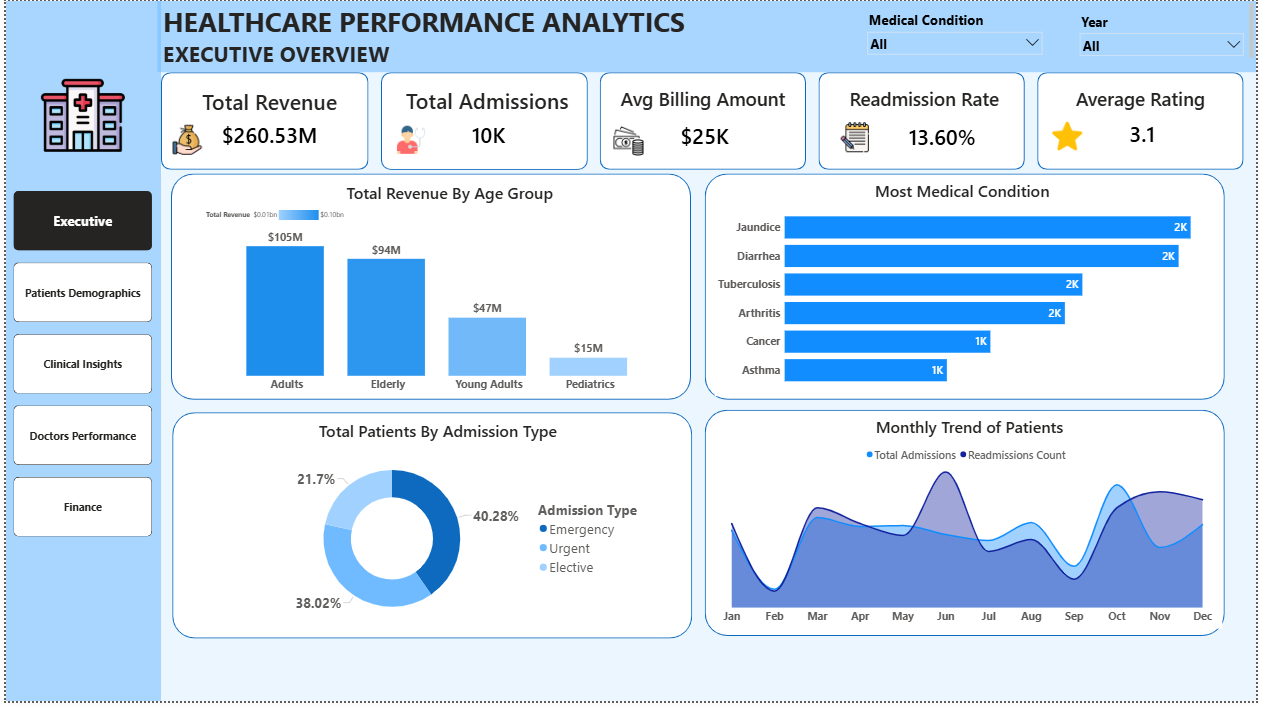

The dashboard page shown, as its layout file describes it:
{"tool":"powerbi","page":{"name":"Executive","canvas":[2500,1400],"ordinal":0},"visuals":[{"type":"shape","box":[1625,143,412.5,195],"z":0,"group":"g6"},{"type":"group","id":"g1","title":"Group 6","box":[2062.1,143,412.5,195],"z":0},{"type":"shape","box":[0,0,310,1400],"z":1000},{"type":"shape","box":[1187.9,143,412.5,195],"z":1000,"group":"g5"},{"type":"shape","box":[302.5,0,2197.5,142.5],"z":2000},{"type":"shape","box":[749.6,142.5,413.6,195.5],"z":2000,"group":"g7"},{"type":"textbox","box":[310,0,2190,127.5],"z":3000},{"type":"shape","box":[310,142.5,415,195],"z":3000,"group":"g2"},{"type":"slicer","fields":{"Values":["Healthcare Dataset.Medical Condition"]},"box":[1713.6,15,370,102.5],"z":4000},{"type":"slicer","fields":{"Values":["Date_Table.Year"]},"box":[2138.6,17.5,347.5,100],"z":5000},{"type":"group","id":"g2","title":"Group 1","box":[310,142.5,415,195],"z":6000},{"type":"group","id":"g3","title":"Group 2","box":[749.6,142.5,413.6,195.5],"z":7000},{"type":"group","id":"g4","title":"Group 4","box":[1625,143,412.5,195],"z":8000},{"type":"group","id":"g5","title":"Group 7","box":[1187.9,143,412.5,195],"z":9000},{"type":"cardVisual","fields":{"Data":["_Measures.Total Revenue"]},"box":[390,217.5,275,97.5],"z":9000,"group":"g2"},{"type":"image","box":[65,145,177.5,167.5],"z":10000},{"type":"textbox","box":[342.5,167.5,370,72.5],"z":10000,"group":"g2"},{"type":"cardVisual","fields":{"Data":["_Measures.Total Admissions"]},"box":[833.7,217.5,261.4,97.7],"z":11000,"group":"g7"},{"type":"image","box":[1647.5,242.5,100,60],"z":11000},{"type":"textbox","box":[776.9,165.2,370.5,72.7],"z":12000,"group":"g7"},{"type":"image","box":[2072.5,240,100,60],"z":12000},{"type":"cardVisual","fields":{"Data":["_Measures.Avg Billing Cost"]},"box":[1277.9,218,240,100],"z":13000,"group":"g5"},{"type":"image","box":[1195,250,100,60],"z":13000},{"type":"textbox","box":[1207.9,165.5,372.5,72.5],"z":14000,"group":"g5"},{"type":"image","box":[760,247.5,100,60],"z":14000},{"type":"shape","box":[2062.1,143,412.5,195],"z":15000,"group":"g1"},{"type":"cardVisual","fields":{"Data":["_Measures.Readmission Rate"]},"box":[1755,220.5,235,100],"z":15000,"group":"g6"},{"type":"image","box":[312.5,247.5,100,60],"z":15000},{"type":"textbox","box":[1650,165.5,372.5,72.5],"z":16000,"group":"g6"},{"type":"cardVisual","fields":{"Data":["_Measures.Avg Satisfaction"]},"box":[2167.5,213,210,100],"z":16000,"group":"g1"},{"type":"shape","box":[330.6,345,1040,452.5],"z":16000},{"type":"textbox","box":[2082.1,165.5,372.5,72.5],"z":17000,"group":"g1"},{"type":"clusteredColumnChart","fields":{"Category":["Healthcare Dataset.Age Group"],"Y":["_Measures.Total Revenue"]},"box":[395.6,410,940,382.5],"z":17000},{"type":"textbox","box":[660.6,357.5,455,52.5],"z":18000},{"type":"shape","box":[1397.5,345,1040,452.5],"z":19000},{"type":"group","id":"g6","title":"Group 5","box":[1625,143,412.5,195],"z":19005,"group":"g4"},{"type":"group","id":"g7","title":"Group 3","box":[749.6,142.5,413.6,195.5],"z":19006,"group":"g3"},{"type":"shape","box":[332.5,822.5,1040,452.5],"z":20000},{"type":"shape","box":[1397.5,817.5,1040,452.5],"z":21000},{"type":"donutChart","fields":{"Category":["Healthcare Dataset.Admission Type"],"Y":["_Measures.Total Patients"]},"box":[475,887.5,810,375],"z":22000},{"type":"textbox","box":[596.2,832.5,532.5,55],"z":23000},{"type":"clusteredBarChart","title":"Most Medical Condition","fields":{"Category":["Healthcare Dataset.Medical Condition"],"Y":["_Measures.Total Patients"]},"box":[1417.5,395,990,395],"z":24000},{"type":"textbox","box":[1685,352.5,455,52.5],"z":25000},{"type":"areaChart","title":"Monthly Trend of Patients","fields":{"Y":["_Measures.Total Admissions"],"Category":["Date_Table.Month Name"],"Y2":["_Measures.Readmissions Count"]},"box":[1412.5,882.5,1020,372.5],"z":26000},{"type":"textbox","box":[1695,825,455,52.5],"z":28000},{"type":"pageNavigator","box":[15,380,277.5,695],"z":29000}]}

Visuals, with their boxes in screenshot pixels (x1, y1, x2, y2), scaled from the page's 2500x1400 canvas onto the 1261x707 screenshot:
shape: (820, 72, 1028, 171)
"Group 6" group: (1040, 72, 1248, 171)
shape: (0, 0, 156, 706)
shape: (599, 72, 807, 171)
shape: (153, 0, 1260, 72)
shape: (378, 72, 587, 171)
textbox: (156, 0, 1260, 64)
shape: (156, 72, 366, 170)
slicer - Healthcare Dataset.Medical Condition: (864, 8, 1051, 59)
slicer - Date_Table.Year: (1079, 9, 1254, 59)
"Group 1" group: (156, 72, 366, 170)
"Group 2" group: (378, 72, 587, 171)
"Group 4" group: (820, 72, 1028, 171)
"Group 7" group: (599, 72, 807, 171)
cardVisual - _Measures.Total Revenue: (197, 110, 335, 159)
image: (33, 73, 122, 158)
textbox: (173, 85, 359, 121)
cardVisual - _Measures.Total Admissions: (421, 110, 552, 159)
image: (831, 122, 881, 153)
textbox: (392, 83, 579, 120)
image: (1045, 121, 1096, 152)
cardVisual - _Measures.Avg Billing Cost: (645, 110, 766, 161)
image: (603, 126, 653, 157)
textbox: (609, 84, 797, 120)
image: (383, 125, 434, 155)
shape: (1040, 72, 1248, 171)
cardVisual - _Measures.Readmission Rate: (885, 111, 1004, 162)
image: (158, 125, 208, 155)
textbox: (832, 84, 1020, 120)
cardVisual - _Measures.Avg Satisfaction: (1093, 108, 1199, 158)
shape: (167, 174, 691, 403)
textbox: (1050, 84, 1238, 120)
clusteredColumnChart - Healthcare Dataset.Age Group x _Measures.Total Revenue: (200, 207, 674, 400)
textbox: (333, 181, 563, 207)
shape: (705, 174, 1229, 403)
"Group 5" group: (820, 72, 1028, 171)
"Group 3" group: (378, 72, 587, 171)
shape: (168, 415, 692, 644)
shape: (705, 413, 1229, 641)
donutChart - Healthcare Dataset.Admission Type x _Measures.Total Patients: (240, 448, 648, 638)
textbox: (301, 420, 569, 448)
"Most Medical Condition" clusteredBarChart: (715, 199, 1214, 399)
textbox: (850, 178, 1079, 205)
"Monthly Trend of Patients" areaChart: (712, 446, 1227, 634)
textbox: (855, 417, 1084, 443)
pageNavigator: (8, 192, 148, 543)
